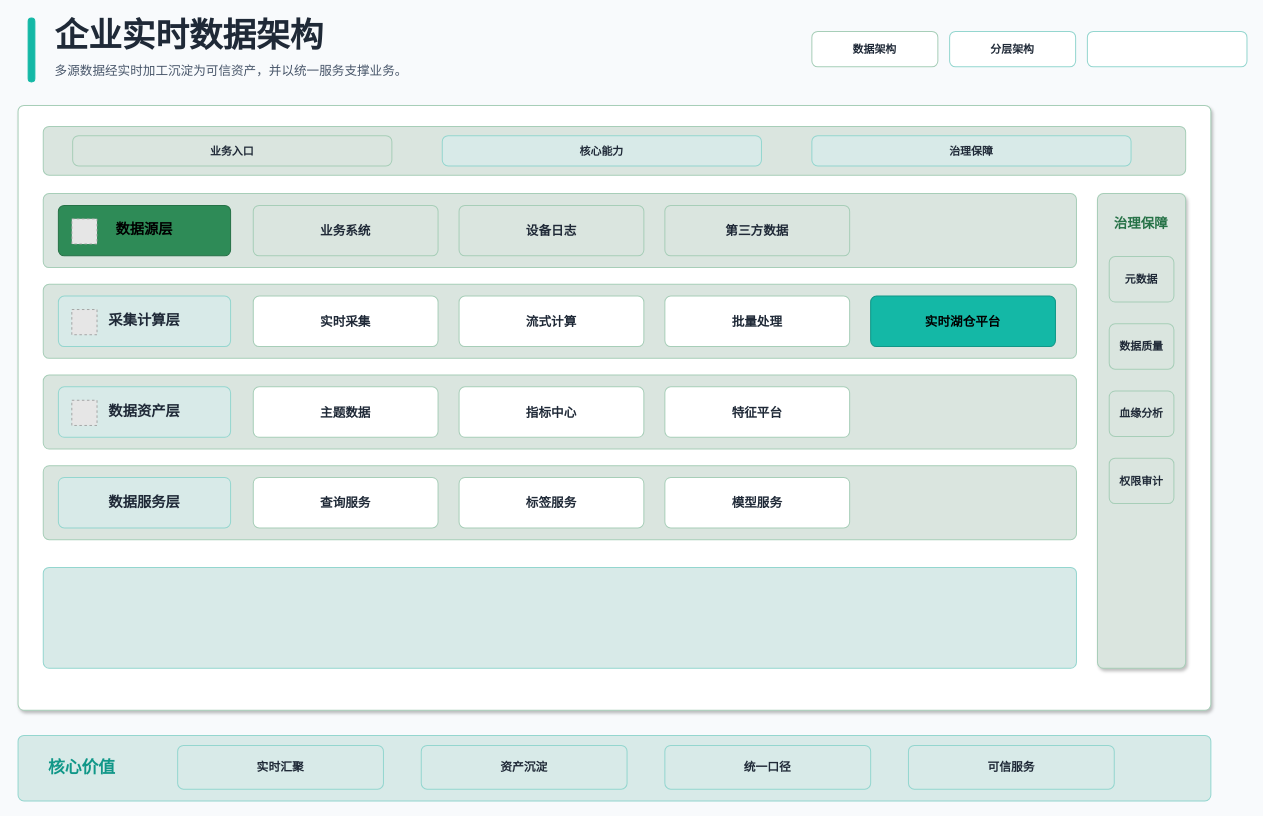
Some shapes in this 1263 by 816 pixel diagram are drawn without their labels. Grey dashed boxes stand in for pictures. Here are the shapes that lost their labels. From the top down, the centre of each, then its label:
At [1166,49]: "Mint green".
At [559,617]: "多源数据经实时加工沉淀为可信资产，并以统一服务支撑业务。 架构能力形成统一承载、弹性扩展与闭环治理".
